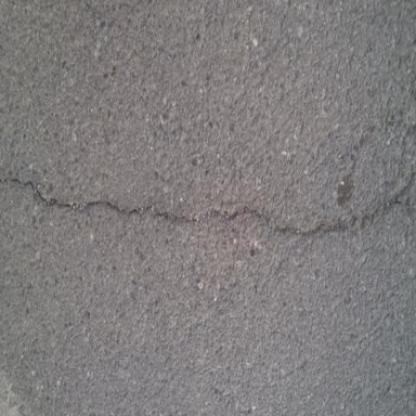Cracks: (2, 171, 415, 246)
